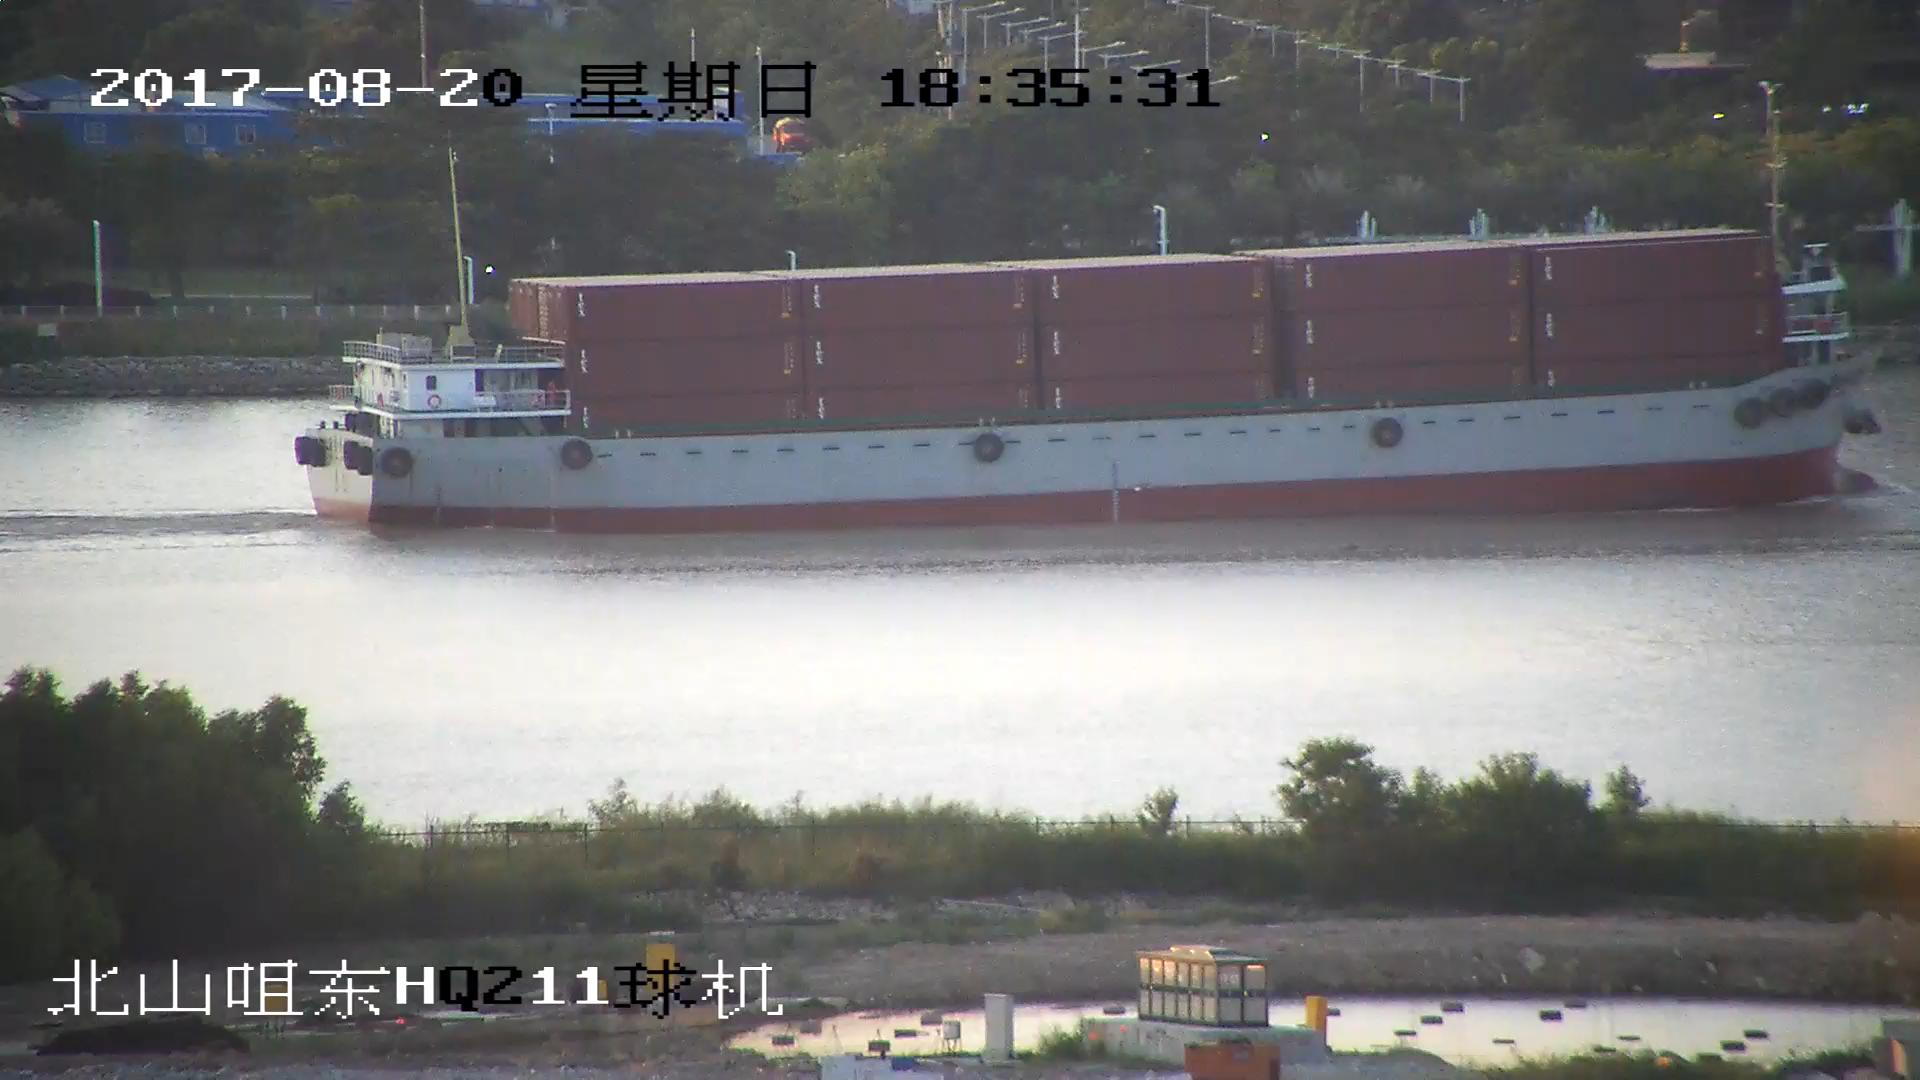container ship: (290, 163, 1907, 533)
